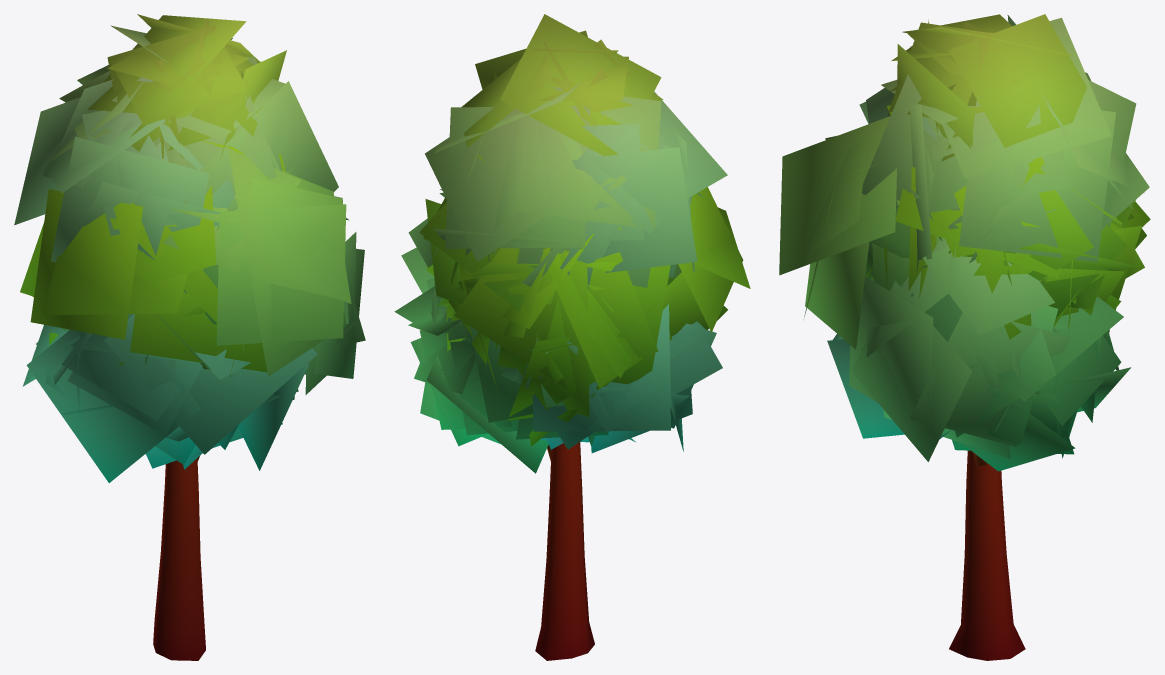
File: card_tall.glb
3 renders of one model, left to right at view 1: azimuth 30°, elevation 25°; view 2: azimuth 150°, elevation 25°; view 3: azimuth 270°, elevation 25°, orthographic. The views are drawn at different scales.
Parts seen in each view (by area): view 1: card_tall_LOD0; view 2: card_tall_LOD0; view 3: card_tall_LOD0.
Boxes of the visible parts, x1,y1,x2,y2 form: card_tall_LOD0: (14,14,365,660); card_tall_LOD0: (394,14,750,660); card_tall_LOD0: (779,14,1150,660).
Size of what is drawn, in the model's own units: 5.2 by 9.15 by 4.78.
